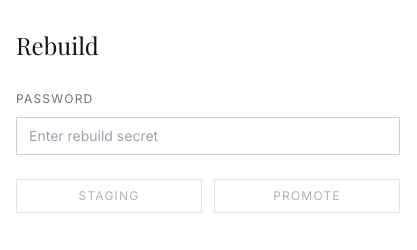
Test: RebuildPage › shows fallback HTTP status message when non-ok response has no error field
Type "mysecret" into the password field labelled "Password".
click(208, 136); type("mysecret")  # box x1=16 y1=117 x2=400 y2=155
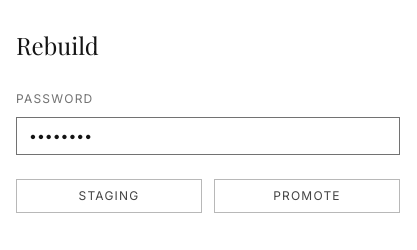
Click the button "Staging".
click(109, 196)  # box x1=16 y1=179 x2=202 y2=213
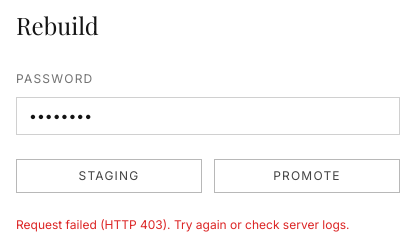
Expected: the text "Request failed (HTTP 403). Try again or check server logs." is shown, x1=16 y1=217 x2=400 y2=233
